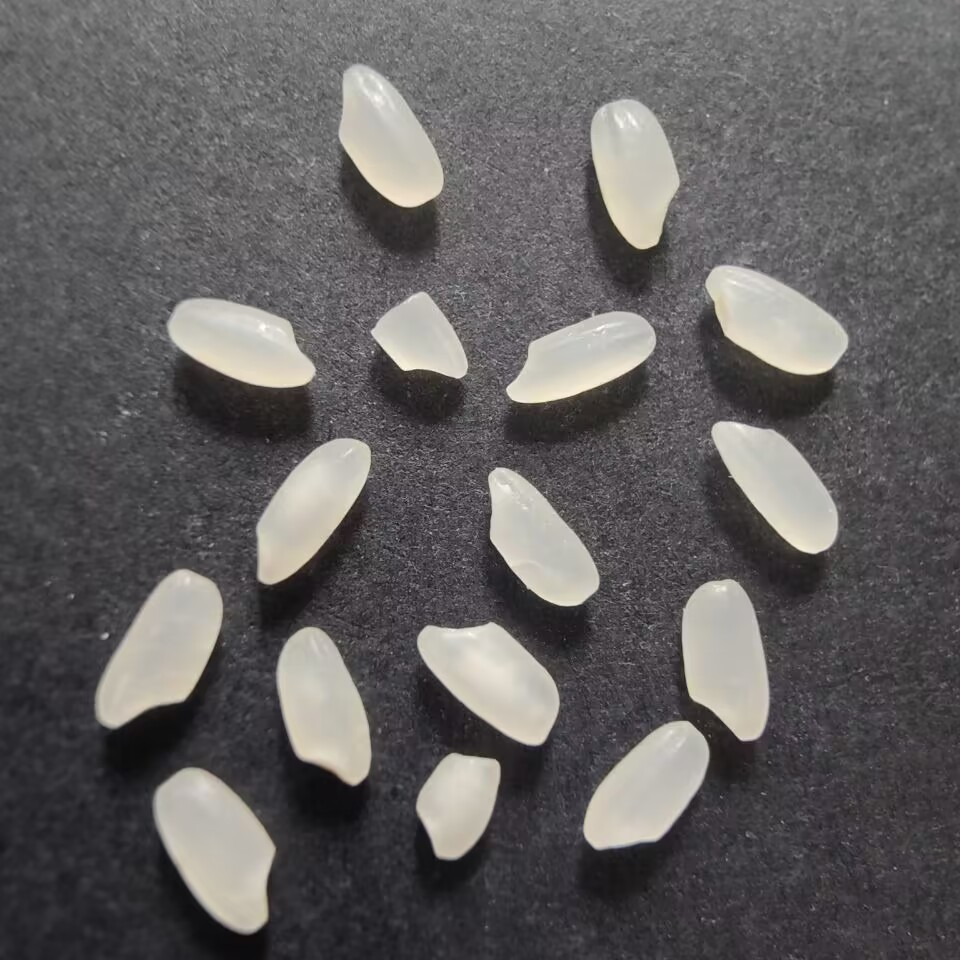broken: (408, 748, 505, 865), (365, 289, 471, 388)
rice: (90, 564, 229, 733), (152, 764, 280, 939), (250, 431, 375, 590), (409, 618, 561, 748), (709, 415, 848, 556), (577, 716, 713, 855), (703, 259, 854, 380), (484, 465, 606, 612), (335, 62, 449, 212), (275, 624, 376, 791), (681, 575, 776, 743), (502, 306, 659, 406), (589, 93, 684, 255), (165, 297, 319, 393)
